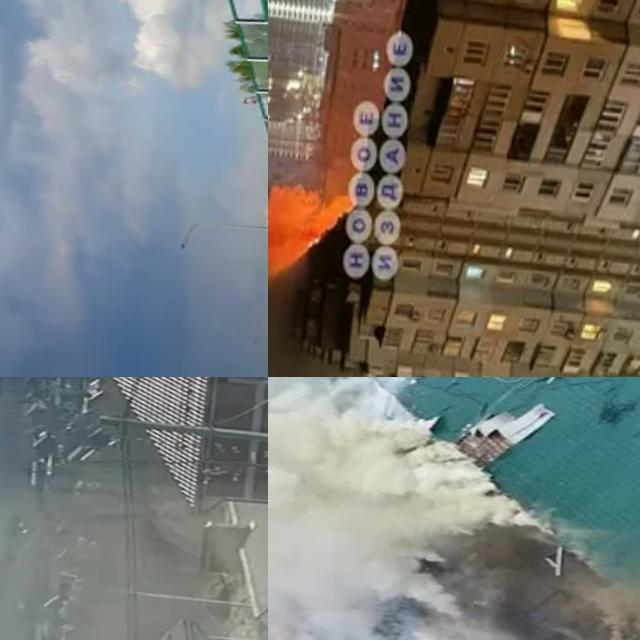smoke: (268, 377, 640, 640), (268, 162, 359, 377)
